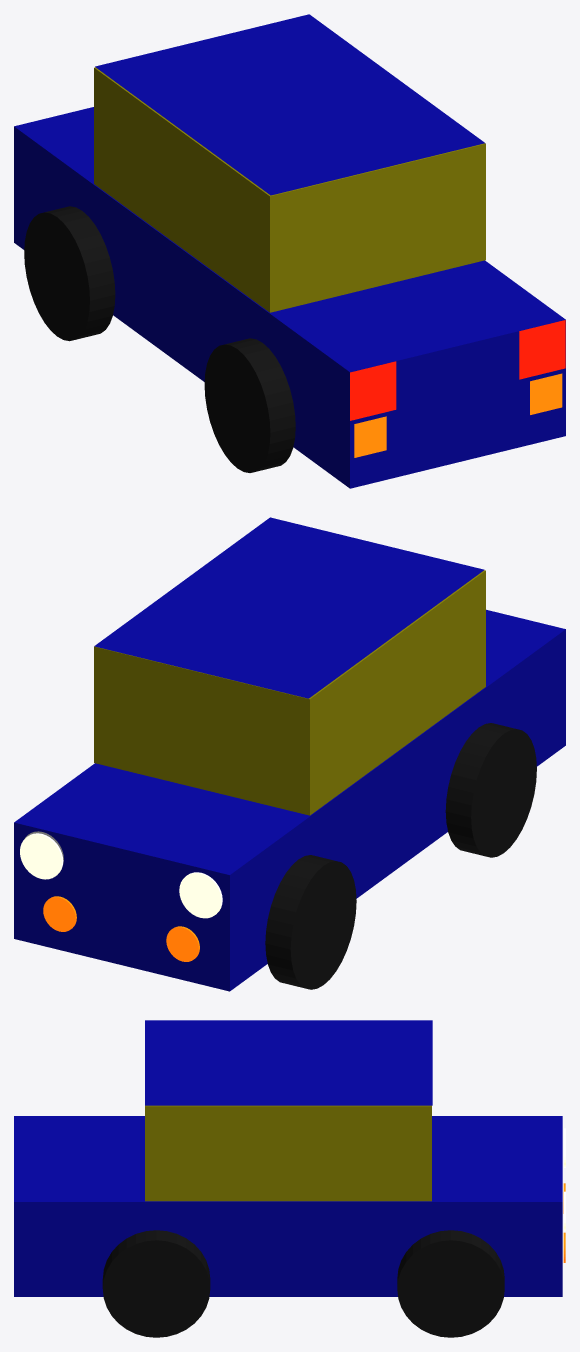
Rendered from new car 1.fbx.
The picture shows the model from 3 angles, top to bottom: view 1: azimuth 30°, elevation 25°; view 2: azimuth 150°, elevation 25°; view 3: azimuth 270°, elevation 25°; orthographic projection. The views are drawn at different scales.
Visible parts, largest first — view 1: Cube, Cube.001, Plane.004, Circle.008, Circle.006, Plane.001, Plane, Plane.002, Plane.003; view 2: Cube, Cube.001, Plane.004, Circle.008, Circle.006, Circle.009, Circle.001, Circle.002, Circle.003; view 3: Cube, Cube.001, Plane.004, Circle.007, Circle.005.
Part boxes in pixels (x1,y1,x2,y2): Cube: [14, 107, 565, 488]; Cube.001: [94, 67, 485, 312]; Plane.004: [95, 14, 485, 195]; Circle.008: [204, 338, 295, 472]; Circle.006: [24, 206, 115, 341]; Plane.001: [519, 320, 565, 379]; Plane: [350, 361, 396, 420]; Plane.002: [354, 416, 386, 457]; Plane.003: [530, 373, 562, 414]; Cube: [14, 609, 565, 991]; Cube.001: [94, 570, 485, 815]; Plane.004: [94, 517, 484, 698]; Circle.008: [445, 723, 536, 857]; Circle.006: [265, 855, 356, 989]; Circle.009: [179, 872, 222, 918]; Circle.001: [20, 833, 63, 879]; Circle.002: [166, 926, 199, 961]; Circle.003: [43, 896, 76, 931]; Cube: [14, 1116, 562, 1296]; Cube.001: [145, 1105, 431, 1201]; Plane.004: [145, 1020, 432, 1105]; Circle.007: [102, 1230, 210, 1337]; Circle.005: [397, 1230, 504, 1337].
Bounding box in the file's own units: 247 × 241 × 543.
